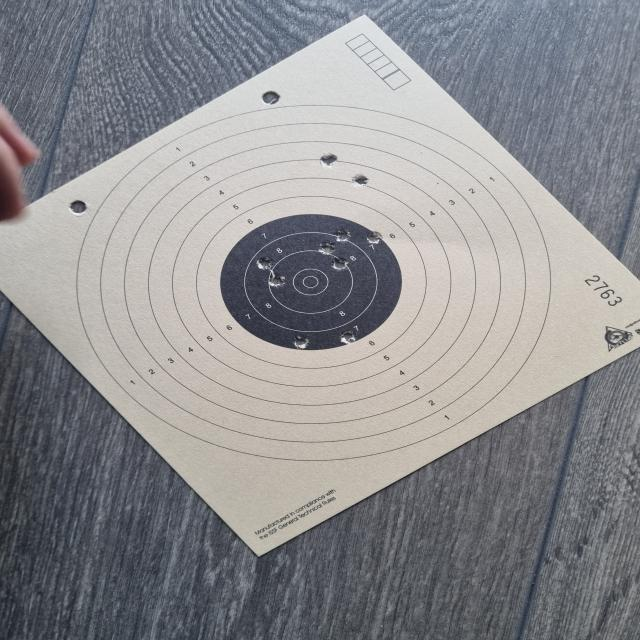10: (268, 271, 285, 287), (318, 242, 335, 255), (332, 258, 348, 270)
5: (320, 153, 338, 168)
6: (351, 174, 369, 187)
8: (340, 331, 356, 345), (293, 336, 310, 349), (366, 232, 384, 244)
9: (334, 230, 351, 242), (256, 258, 273, 270)
Black Contour: (220, 214, 404, 352)
Target: (75, 107, 549, 460)
